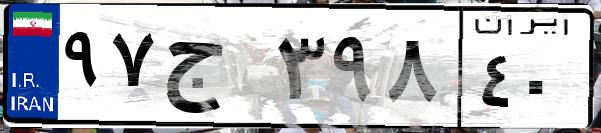0: (525, 38, 570, 115)
3: (270, 28, 330, 110)
4: (475, 38, 525, 113)
7: (110, 28, 158, 98)
8: (385, 28, 445, 110)
9: (330, 28, 385, 110), (57, 26, 110, 100)
ج: (158, 20, 270, 120)
